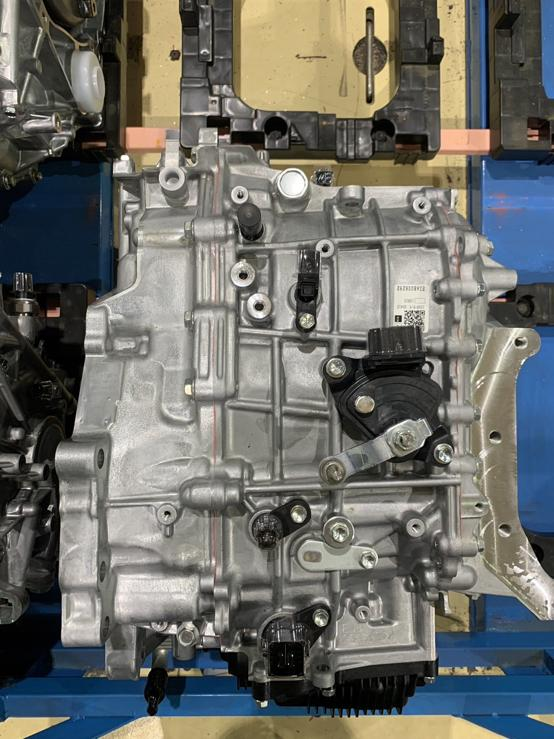gearbox_type2: (61, 154, 548, 714)
gearbox_type2_FP1: (323, 353, 455, 484)
gearbox_type2_FP2: (182, 217, 241, 403)
gearbox_type2_FP3: (179, 476, 245, 511)
